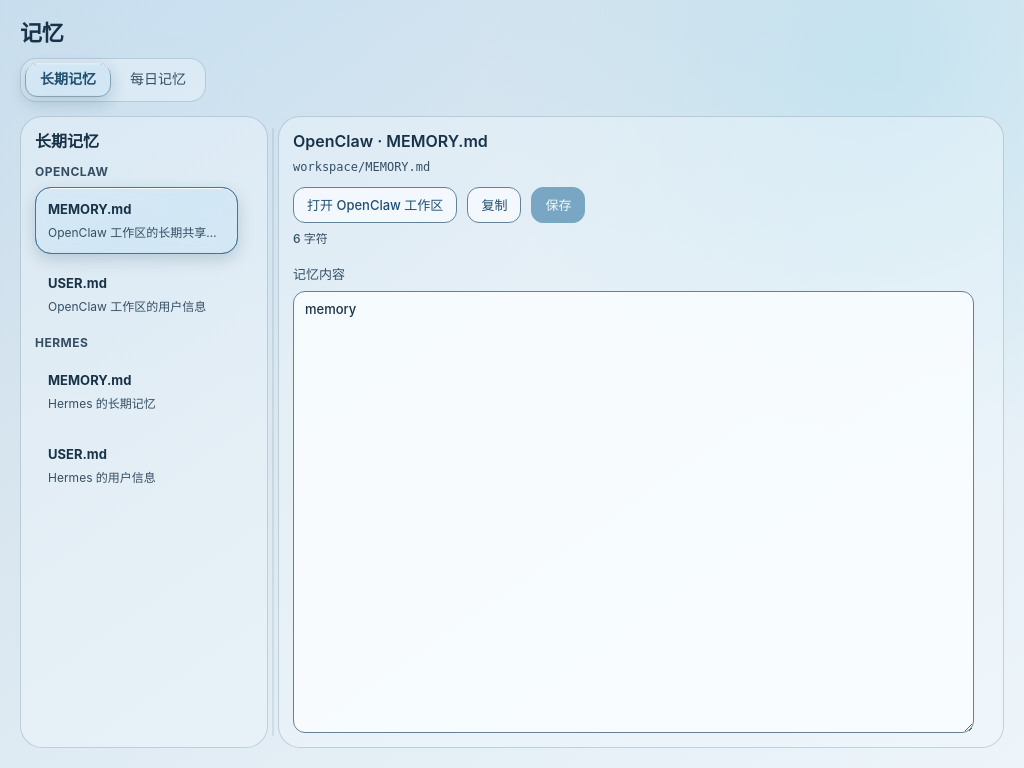
Test: MemoryPage native business management › names the selected today date when its listed file reads as missing and saves only that date
expect the text box labelled "记忆内容" is shown: met, box x1=293 y1=291 x2=974 y2=733
Click the tab "每日记忆" at point(158, 80), box x1=115 y1=62 x2=201 y2=96
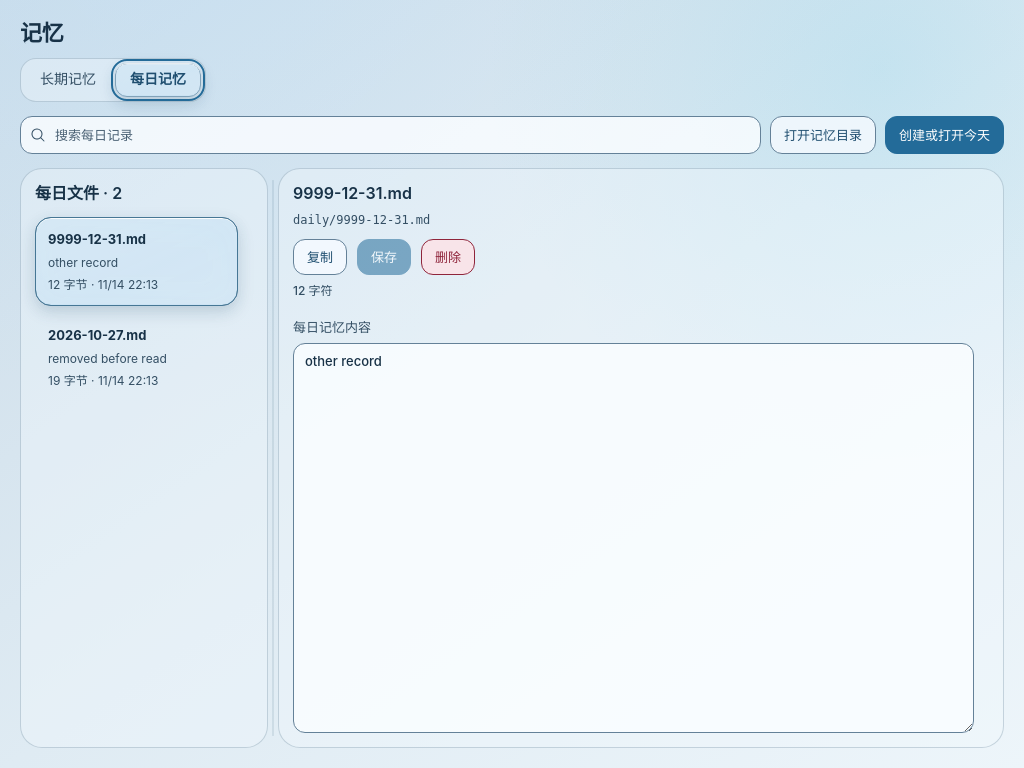
expect the text box labelled "每日记忆内容" is shown: met, box x1=293 y1=344 x2=974 y2=733
Click the button "2026-10-27.md removed before read 19 字节 · 11/14 22:13" at point(136, 358), box x1=35 y1=313 x2=238 y2=402
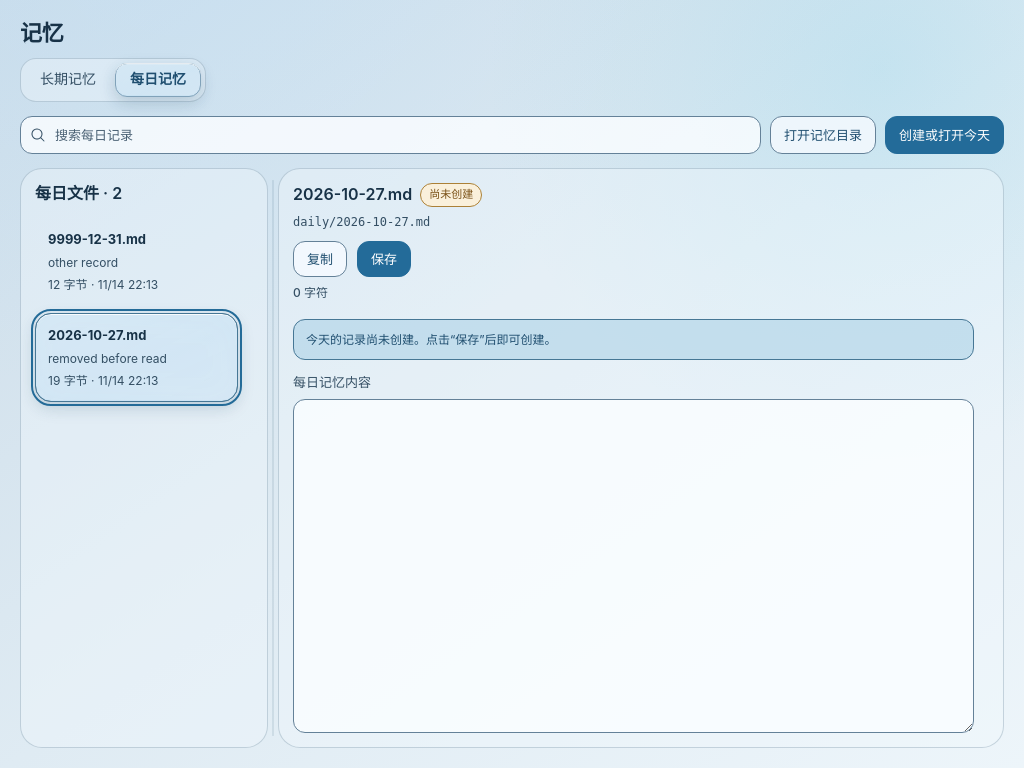
expect the text "今天的记录尚未创建。点击“保存”后即可创建。" is shown: met, box x1=293 y1=319 x2=974 y2=360
expect the button "删除" is gone: met
Type "selected date draft" into the text box labelled "每日记忆内容" at point(634, 566), box x1=293 y1=399 x2=974 y2=733
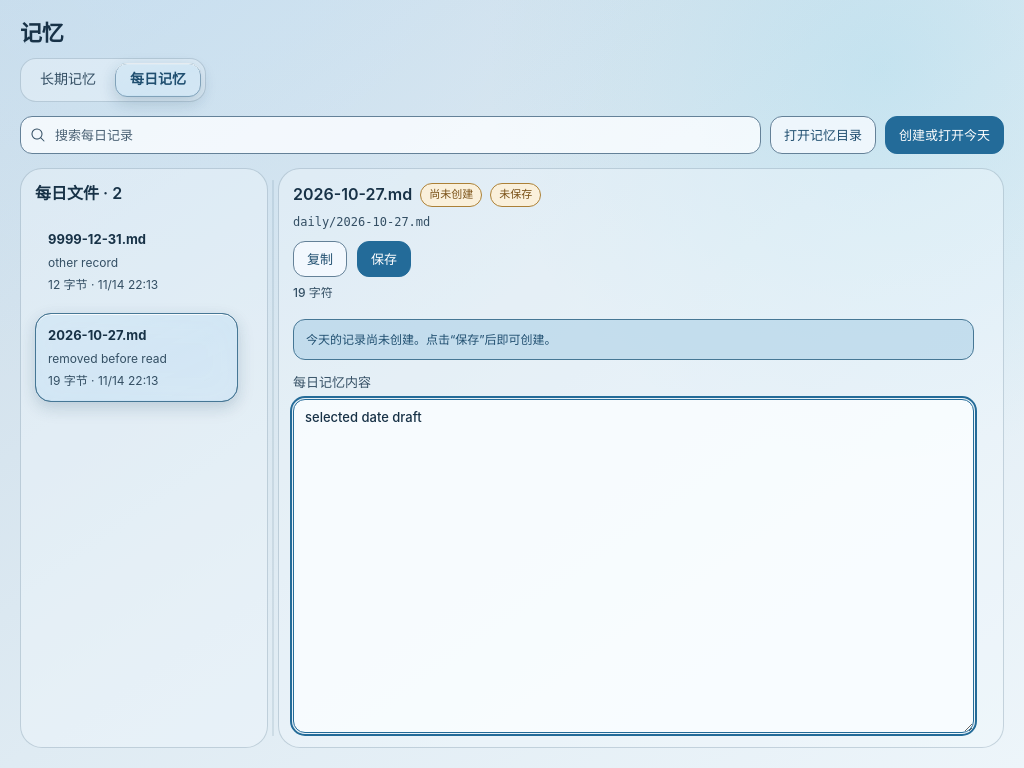
Click the button "保存" at point(384, 260), box x1=357 y1=242 x2=411 y2=278
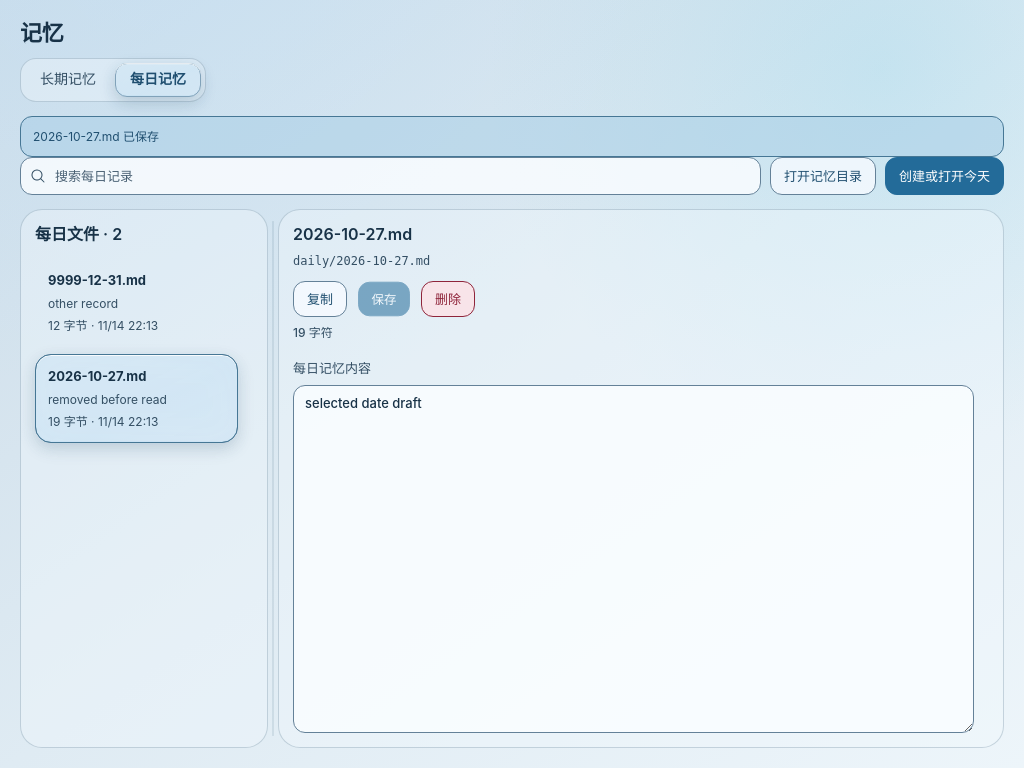
expect the text "的记录尚未创建" is gone: met
